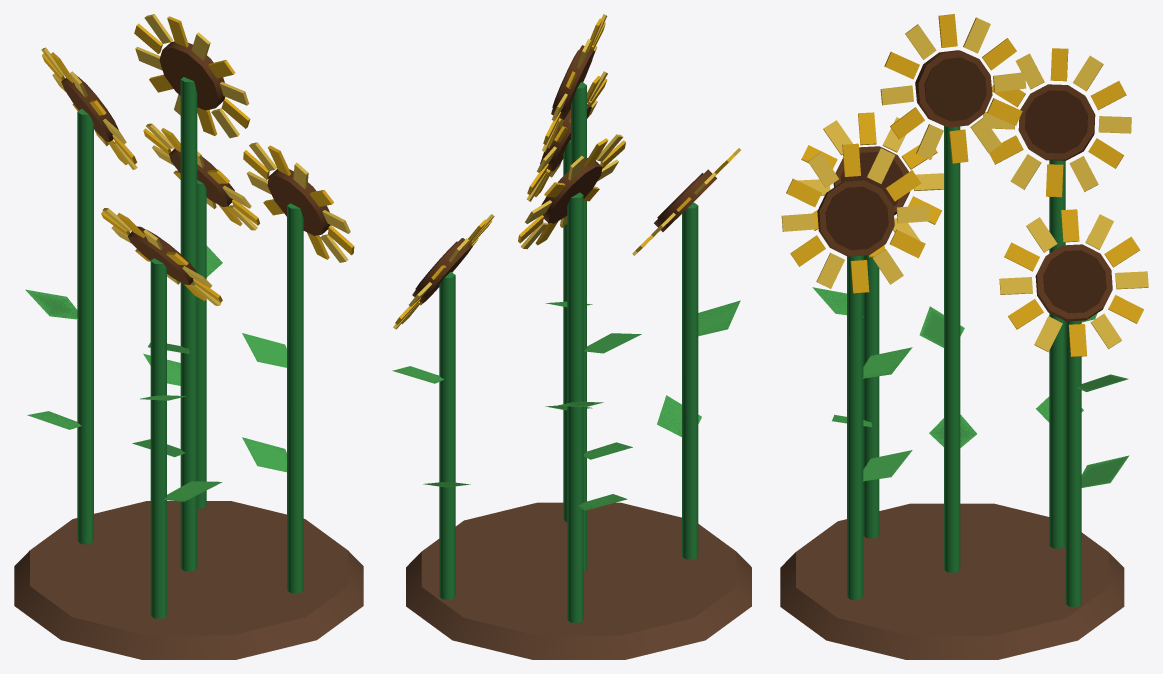
File: greenhouse-deco2.glb
The picture shows the model from 3 angles, left to right: view 1: azimuth 30°, elevation 25°; view 2: azimuth 150°, elevation 25°; view 3: azimuth 270°, elevation 25°; orthographic projection.
Parts seen in each view (by area): view 1: greenhouse-deco2; view 2: greenhouse-deco2; view 3: greenhouse-deco2.
Part boxes in pixels (bbox=[...]): greenhouse-deco2: bbox=[14, 14, 363, 659]; greenhouse-deco2: bbox=[392, 14, 751, 659]; greenhouse-deco2: bbox=[780, 14, 1148, 659].
Size of the model in its own units: 2.13 by 3.85 by 2.28.
